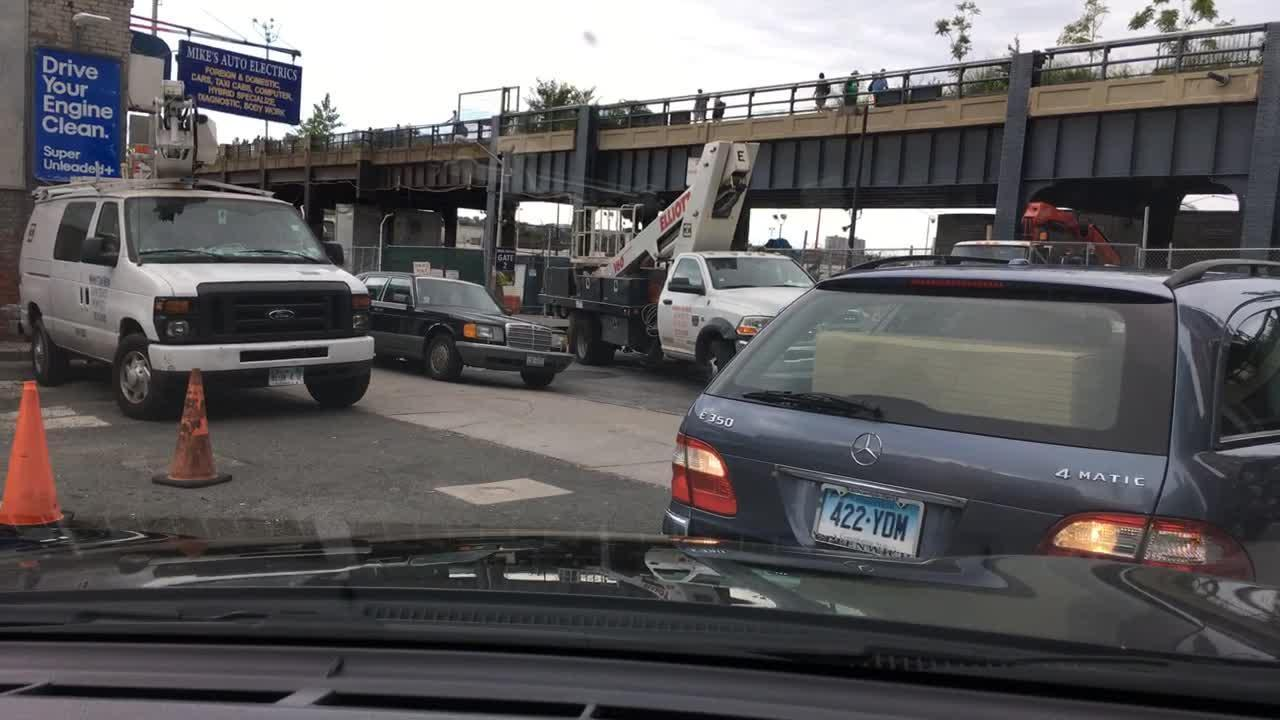Mercedes: (844, 430, 887, 470)
ford: (265, 308, 295, 323)
